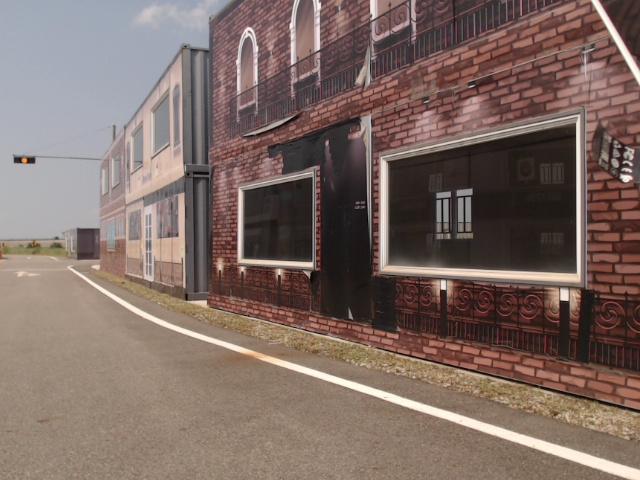orange_3: (13, 154, 37, 166)
